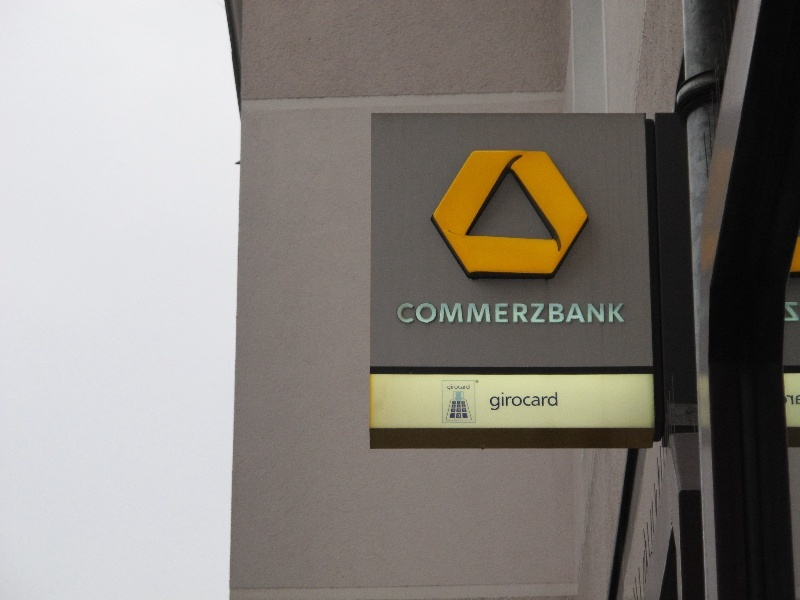text: (401, 302, 416, 324), (417, 302, 432, 324), (433, 302, 448, 324), (449, 302, 464, 324), (465, 302, 480, 324), (481, 302, 496, 324), (497, 302, 512, 324), (513, 302, 528, 324), (529, 302, 544, 324), (545, 302, 560, 324), (561, 302, 576, 324), (577, 302, 592, 324), (593, 302, 608, 324), (609, 302, 624, 324), (497, 392, 512, 411), (513, 392, 528, 411), (529, 392, 544, 411), (785, 302, 799, 322), (545, 392, 558, 411), (786, 395, 800, 405), (490, 392, 496, 411), (449, 384, 464, 391), (397, 302, 400, 324), (465, 384, 470, 391), (453, 409, 464, 412), (454, 405, 464, 408), (458, 414, 464, 418), (625, 302, 626, 324), (454, 402, 464, 404), (458, 405, 464, 408), (458, 409, 464, 412), (458, 402, 464, 404), (463, 405, 464, 408), (463, 409, 464, 412), (465, 409, 466, 412), (463, 402, 464, 404)
